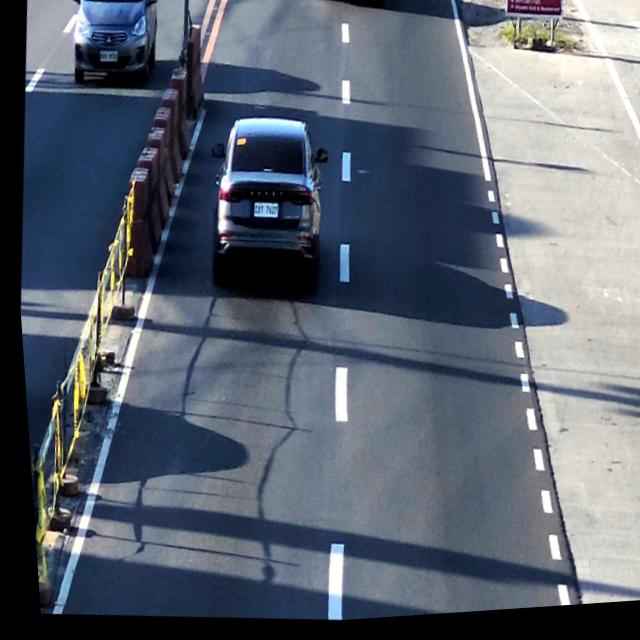Car: (198, 114, 328, 296), (312, 0, 386, 19)
License-Plate: (247, 201, 276, 225)
